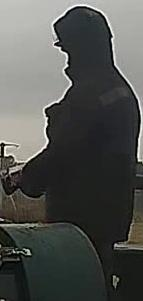vest: (42, 70, 142, 242)
